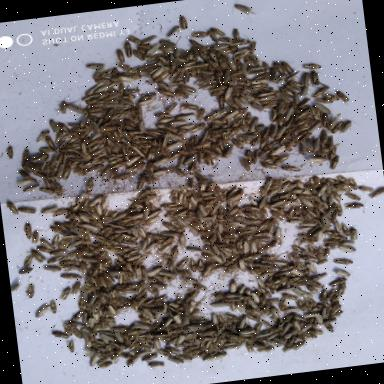pbw: (212, 286, 250, 304), (114, 276, 144, 298), (328, 187, 347, 220), (228, 210, 262, 228), (46, 203, 76, 223), (136, 40, 166, 60), (68, 124, 98, 144), (96, 324, 120, 348), (270, 85, 294, 109), (146, 292, 170, 316), (292, 104, 318, 126), (18, 146, 40, 172), (73, 247, 103, 266), (239, 64, 272, 81), (334, 116, 362, 136), (198, 348, 233, 364), (266, 226, 290, 249), (122, 102, 146, 125), (29, 298, 54, 320), (61, 98, 86, 120), (326, 174, 352, 195), (196, 260, 222, 281), (246, 88, 280, 104), (278, 100, 300, 124), (174, 137, 198, 159), (252, 272, 278, 292), (220, 190, 246, 210), (332, 280, 352, 306), (86, 222, 112, 242), (308, 81, 334, 101), (89, 296, 109, 322), (66, 160, 92, 180), (10, 250, 36, 270), (159, 218, 186, 237), (320, 276, 352, 292), (62, 320, 84, 343), (18, 280, 41, 302), (256, 175, 278, 198), (274, 296, 297, 318), (159, 124, 183, 145), (184, 348, 212, 366), (116, 286, 144, 304), (265, 272, 290, 292), (253, 256, 284, 272), (75, 88, 106, 104), (319, 317, 341, 339), (200, 50, 222, 72), (162, 244, 184, 266), (281, 72, 303, 94), (198, 120, 219, 143), (48, 323, 72, 343), (56, 270, 86, 286), (264, 116, 284, 140), (176, 46, 200, 66), (275, 284, 299, 304), (158, 98, 182, 118), (216, 142, 240, 162), (276, 160, 304, 177), (272, 304, 306, 318), (72, 219, 100, 236), (129, 276, 154, 295), (142, 262, 167, 281), (37, 201, 62, 220), (128, 317, 154, 335), (77, 155, 103, 173), (146, 165, 172, 183), (336, 172, 362, 190), (166, 352, 192, 370), (150, 84, 176, 102), (88, 115, 110, 136), (90, 273, 112, 294), (119, 38, 140, 60), (52, 135, 74, 156), (242, 144, 262, 167), (332, 86, 355, 106), (2, 195, 22, 218), (153, 72, 176, 92), (111, 70, 138, 87), (136, 190, 160, 209), (98, 136, 122, 155), (334, 265, 358, 284), (73, 283, 92, 307), (253, 240, 278, 258), (308, 98, 333, 116), (10, 276, 25, 306), (288, 284, 313, 302), (300, 271, 330, 286), (13, 202, 38, 220), (124, 125, 152, 141), (294, 234, 326, 248), (136, 204, 164, 220), (217, 82, 251, 95), (70, 140, 90, 162), (310, 200, 332, 220), (156, 32, 178, 52), (232, 68, 252, 90), (52, 216, 74, 236), (76, 175, 98, 195), (212, 119, 234, 139), (121, 116, 143, 136), (140, 238, 162, 258), (264, 101, 284, 123), (57, 317, 76, 340), (252, 216, 275, 235), (110, 88, 139, 103), (10, 175, 41, 189), (127, 94, 158, 108), (123, 351, 147, 369), (148, 152, 172, 170), (14, 158, 38, 176), (318, 86, 342, 104), (81, 192, 105, 210), (246, 98, 270, 116), (112, 291, 136, 309), (220, 125, 244, 143), (68, 190, 92, 208), (162, 164, 186, 182), (206, 82, 230, 100), (232, 54, 250, 78), (228, 132, 248, 153), (230, 324, 260, 338), (82, 291, 102, 312), (250, 342, 280, 356), (326, 116, 347, 136), (180, 300, 201, 320), (246, 47, 266, 68), (252, 84, 282, 98), (168, 297, 188, 318), (182, 220, 203, 240), (332, 182, 362, 196), (112, 234, 140, 249), (222, 259, 244, 278), (233, 280, 252, 302), (305, 174, 324, 196), (225, 26, 244, 48), (200, 107, 222, 126), (288, 126, 310, 145), (254, 159, 280, 175), (258, 152, 284, 168), (0, 138, 16, 164), (174, 81, 200, 97), (152, 235, 178, 251), (149, 43, 175, 59), (336, 241, 359, 259), (222, 308, 245, 326), (187, 106, 210, 124), (67, 306, 90, 324), (57, 160, 74, 184), (96, 116, 120, 133), (53, 258, 82, 272), (239, 250, 266, 265), (103, 285, 128, 301), (304, 224, 329, 240), (56, 282, 76, 302), (274, 135, 294, 155), (36, 155, 52, 180), (240, 200, 265, 216), (203, 208, 223, 228), (170, 330, 190, 350), (323, 286, 343, 306), (246, 192, 262, 217), (197, 232, 217, 252), (52, 154, 68, 179), (172, 255, 193, 274), (171, 85, 193, 103), (208, 136, 226, 158), (163, 22, 185, 40), (92, 232, 114, 250), (44, 294, 62, 316), (104, 324, 132, 338), (124, 62, 152, 76), (282, 273, 310, 287), (308, 67, 325, 90), (54, 92, 71, 115), (19, 181, 45, 196), (166, 109, 196, 122), (172, 99, 198, 114), (132, 32, 158, 47), (330, 254, 354, 270), (82, 343, 106, 359), (150, 240, 174, 256), (130, 260, 146, 284), (244, 74, 276, 86), (290, 310, 314, 326), (185, 122, 209, 138), (146, 279, 170, 295), (167, 122, 191, 138), (258, 98, 282, 114), (53, 120, 73, 139), (66, 208, 85, 228), (26, 246, 46, 265), (32, 125, 52, 144), (46, 178, 65, 198), (116, 93, 136, 112), (46, 222, 66, 241), (274, 178, 294, 197), (94, 249, 114, 268), (133, 236, 152, 256), (62, 237, 83, 255), (259, 330, 280, 348), (97, 162, 118, 180), (120, 252, 147, 266), (280, 327, 301, 345), (107, 344, 128, 362), (227, 226, 256, 239), (38, 261, 63, 276), (45, 246, 70, 261), (243, 121, 268, 136), (315, 288, 332, 310), (136, 295, 158, 312), (162, 50, 179, 72), (237, 153, 254, 175), (82, 82, 104, 99), (15, 166, 37, 183), (240, 308, 262, 325), (82, 146, 104, 163), (115, 58, 137, 75), (123, 30, 146, 46), (124, 208, 147, 224), (116, 85, 144, 98), (159, 138, 185, 152), (188, 138, 214, 152), (311, 92, 337, 106), (132, 89, 158, 103), (64, 120, 90, 134), (144, 358, 170, 372), (102, 240, 128, 254), (190, 74, 216, 88), (158, 227, 184, 241), (230, 115, 249, 134), (82, 350, 101, 369), (131, 173, 150, 192), (326, 153, 345, 172), (197, 150, 216, 169), (147, 64, 167, 82), (270, 70, 290, 88), (252, 194, 272, 212), (216, 66, 234, 86), (28, 226, 46, 246), (190, 326, 220, 338), (234, 313, 252, 333), (86, 130, 106, 148), (94, 94, 118, 109), (104, 300, 122, 320), (230, 103, 250, 121), (326, 142, 344, 162), (67, 278, 85, 298), (156, 316, 176, 334), (182, 158, 200, 178), (44, 116, 62, 136), (182, 320, 212, 332), (267, 306, 285, 326), (129, 132, 159, 144), (295, 60, 325, 72), (182, 288, 203, 305), (74, 208, 95, 225), (200, 180, 216, 202), (280, 56, 296, 78), (188, 280, 210, 296), (290, 336, 312, 352), (168, 206, 190, 222), (112, 46, 128, 68), (106, 338, 128, 354), (107, 210, 129, 226), (207, 260, 232, 274), (85, 58, 110, 72), (110, 170, 135, 184), (83, 100, 112, 112), (219, 42, 242, 57), (88, 64, 107, 82), (268, 144, 287, 162), (82, 271, 100, 290), (96, 206, 114, 225), (312, 182, 331, 200), (139, 305, 157, 324), (176, 312, 194, 331), (124, 224, 142, 243), (254, 125, 274, 142), (294, 138, 311, 158), (88, 260, 105, 280), (190, 256, 207, 276), (204, 26, 221, 46), (270, 58, 287, 78), (138, 334, 158, 351), (144, 51, 170, 64), (152, 201, 178, 214), (302, 153, 328, 166), (60, 148, 84, 162), (138, 351, 162, 365), (195, 246, 216, 262), (237, 235, 253, 256), (315, 110, 331, 131), (140, 214, 164, 228), (107, 158, 131, 172), (150, 334, 166, 355), (201, 76, 222, 92), (299, 328, 320, 344), (178, 273, 202, 287), (118, 247, 142, 261), (173, 349, 195, 364), (279, 338, 301, 353), (169, 312, 184, 334), (251, 286, 266, 308), (249, 230, 274, 243), (24, 152, 49, 165), (270, 318, 288, 336), (286, 317, 304, 335), (103, 267, 130, 279), (298, 70, 316, 88), (230, 91, 248, 109), (314, 128, 332, 146), (305, 118, 323, 136), (304, 243, 322, 261), (318, 214, 336, 232), (304, 280, 322, 298), (75, 110, 92, 129), (224, 97, 243, 114), (296, 80, 313, 99), (175, 12, 192, 31), (230, 44, 253, 58), (64, 338, 80, 358), (222, 54, 238, 74), (305, 322, 325, 338), (38, 236, 58, 252), (132, 145, 152, 161), (158, 130, 174, 150), (294, 178, 314, 194), (123, 152, 143, 168), (288, 243, 308, 259), (344, 190, 364, 206), (47, 232, 63, 252), (208, 24, 228, 40), (276, 261, 297, 276), (156, 345, 177, 360), (184, 60, 210, 72), (220, 338, 246, 350), (90, 155, 116, 167), (243, 80, 269, 92), (182, 242, 204, 256), (194, 332, 216, 346), (144, 124, 166, 138), (111, 302, 133, 316), (240, 50, 254, 72), (302, 206, 320, 223), (280, 206, 297, 224), (215, 130, 232, 148), (40, 133, 57, 151), (212, 183, 229, 201), (169, 68, 188, 84), (188, 43, 204, 62), (194, 200, 210, 219), (130, 221, 149, 237), (219, 205, 235, 224), (96, 194, 112, 213), (289, 86, 304, 106), (104, 66, 119, 86), (244, 338, 259, 358), (134, 312, 154, 327), (214, 34, 237, 47), (208, 310, 222, 331), (338, 220, 352, 241), (35, 183, 56, 197), (15, 263, 36, 277), (282, 68, 303, 82), (268, 198, 289, 212), (243, 238, 260, 255), (115, 252, 131, 270), (188, 36, 204, 54), (284, 216, 308, 228), (100, 269, 116, 287), (84, 110, 102, 126), (252, 328, 276, 340), (100, 106, 116, 124), (164, 118, 188, 130), (148, 272, 172, 284), (96, 358, 120, 370), (304, 259, 320, 277), (152, 108, 176, 120), (186, 28, 210, 40), (138, 340, 154, 358), (208, 299, 234, 310), (269, 153, 291, 166), (85, 327, 100, 346), (175, 230, 190, 249), (180, 342, 200, 356), (112, 78, 126, 98), (262, 184, 282, 198), (164, 344, 184, 358), (309, 134, 323, 154), (156, 266, 176, 280), (282, 195, 302, 209), (235, 256, 249, 276), (246, 37, 260, 57), (270, 256, 290, 270), (44, 254, 67, 266), (196, 192, 219, 204), (207, 242, 224, 258), (212, 230, 229, 246), (320, 135, 336, 152), (212, 220, 228, 237), (75, 231, 91, 248), (293, 256, 308, 274), (312, 310, 326, 329), (214, 93, 228, 112), (154, 120, 176, 132), (236, 130, 258, 142), (175, 120, 197, 132), (122, 332, 138, 348), (231, 239, 246, 256), (132, 201, 150, 215), (314, 301, 332, 315), (256, 292, 270, 310), (362, 186, 376, 204), (224, 204, 242, 218), (162, 258, 176, 276), (348, 174, 360, 195), (154, 114, 175, 126), (177, 58, 198, 70), (336, 238, 358, 249), (108, 226, 130, 237), (172, 154, 187, 170), (346, 225, 361, 241), (319, 247, 334, 263), (152, 292, 172, 304), (22, 220, 34, 240), (164, 303, 182, 316), (101, 100, 124, 110), (170, 188, 182, 207), (260, 57, 272, 76), (184, 258, 198, 274), (328, 309, 345, 322), (194, 207, 207, 224), (218, 249, 231, 266), (126, 326, 148, 336), (37, 145, 57, 156), (295, 223, 317, 233), (127, 341, 142, 355), (132, 47, 144, 64), (228, 278, 239, 296), (312, 257, 330, 268), (92, 356, 108, 368), (178, 184, 190, 198)
